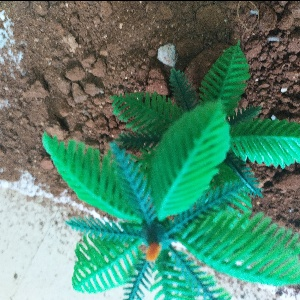plant: (38, 118, 300, 295), (114, 40, 298, 190)
